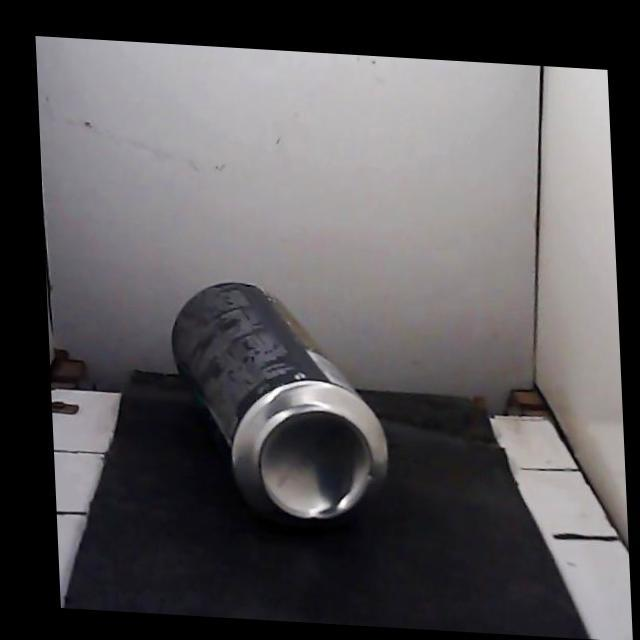metal: (172, 282, 387, 523)
